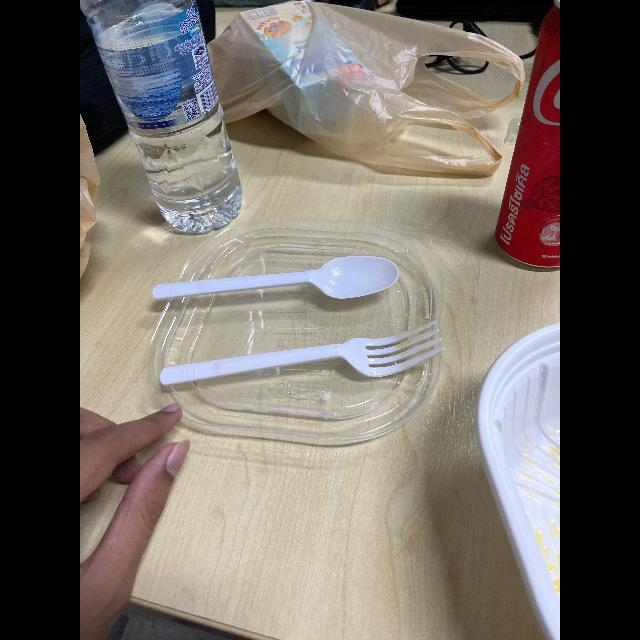plastic_cultery: (153, 316, 449, 392), (144, 256, 408, 300)
